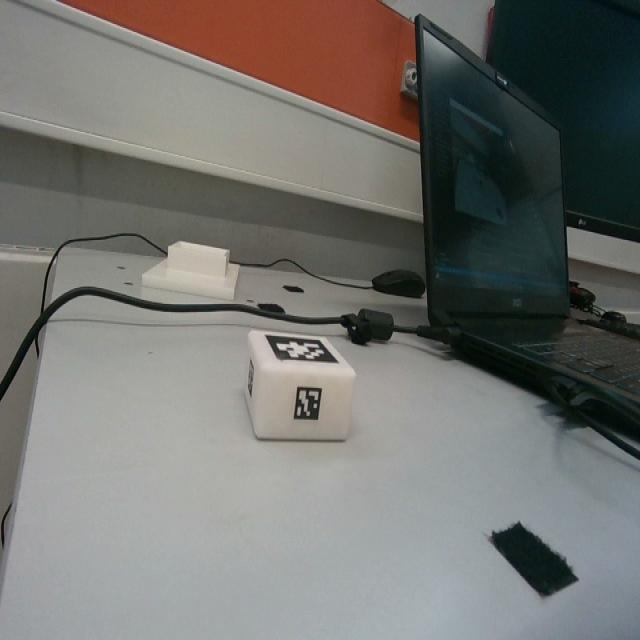Cube: (243, 328, 355, 440)
